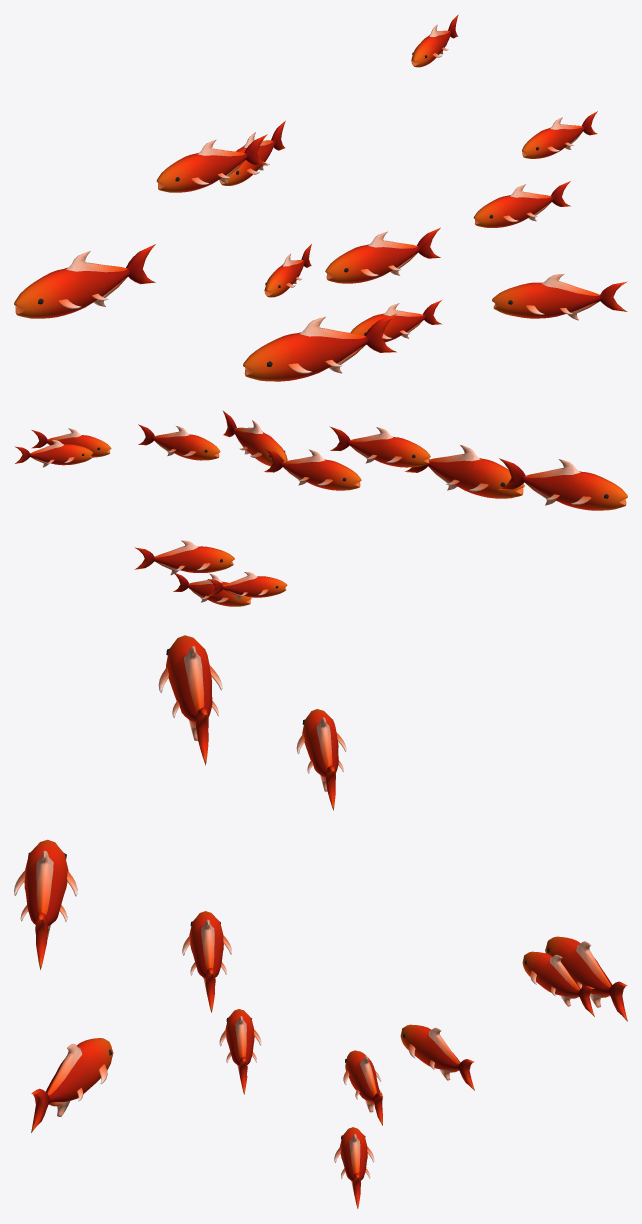
The model's file is Red_Fish_Group_01.fbx.
3 views of the same model, one above another, from view 1: azimuth 30°, elevation 25°; view 2: azimuth 150°, elevation 25°; view 3: azimuth 270°, elevation 25° (orthographic). The views are drawn at different scales.
Visible parts, largest first — view 1: Red_Fish_Group_01; view 2: Red_Fish_Group_01; view 3: Red_Fish_Group_01.
Part boxes in pixels (<box>): Red_Fish_Group_01: <box>14,14,627,381</box>; Red_Fish_Group_01: <box>15,410,627,606</box>; Red_Fish_Group_01: <box>14,635,627,1208</box>.
Bounding box in the file's own units: 414 × 154 × 252.
